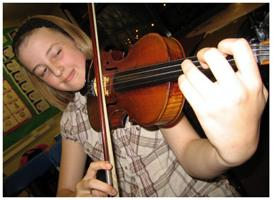person: (12, 16, 269, 198)
